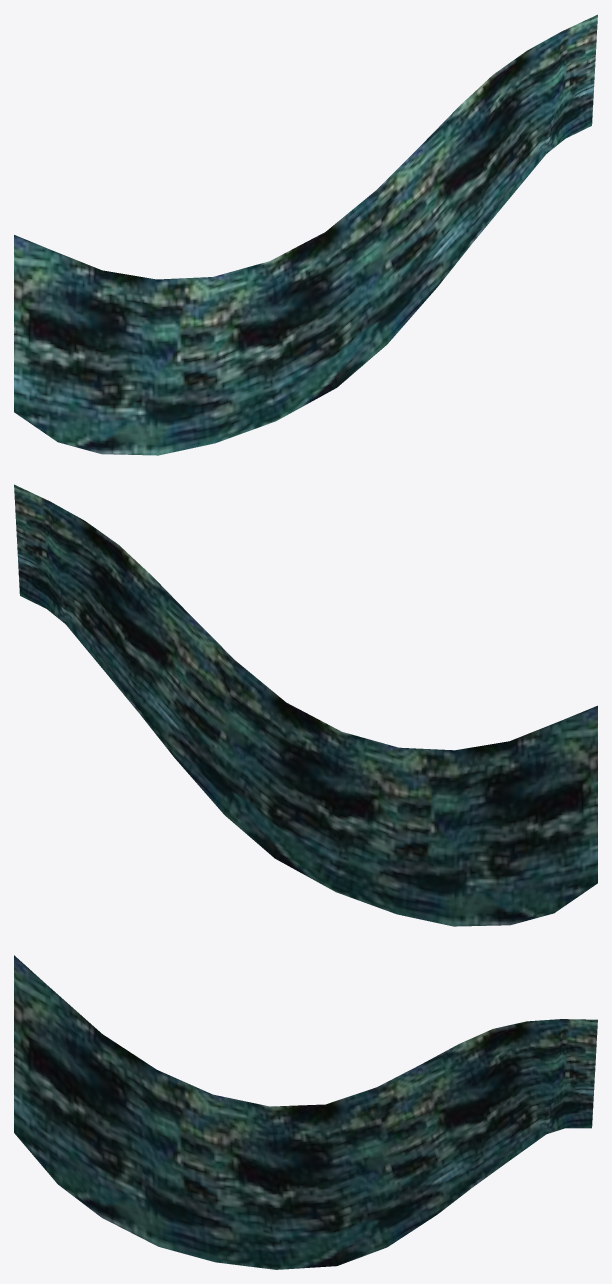
Rendered from yun7.fbx.
3 views of the same model, one above another, from view 1: azimuth 30°, elevation 25°; view 2: azimuth 150°, elevation 25°; view 3: azimuth 330°, elevation 25° (orthographic).
Visible parts, largest first — view 1: yun7; view 2: yun7; view 3: yun7.
Part boxes in pixels (left/top/right/bottom): yun7: left=14, top=14, right=597, bottom=455; yun7: left=14, top=484, right=597, bottom=926; yun7: left=14, top=955, right=597, bottom=1269.
Bounding box in the file's own units: 17.25 × 9.48 × 0.0209.
